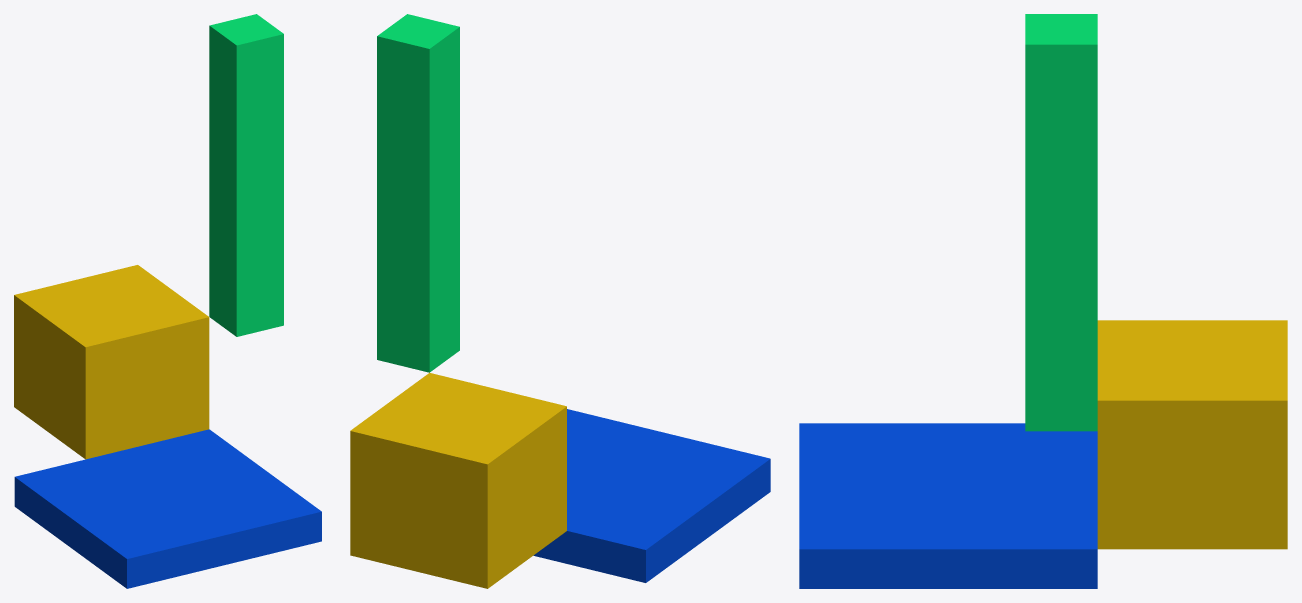
Rendered from AnimationTest_3.fbx.
3 renders of one model, left to right at view 1: azimuth 30°, elevation 25°; view 2: azimuth 150°, elevation 25°; view 3: azimuth 270°, elevation 25°, orthographic. The views are drawn at different scales.
Visible parts, largest first — view 1: Cube_1.001, Cube_2.001, Cube_3.001; view 2: Cube_2.001, Cube_3.001, Cube_1.001; view 3: Cube_1.001, Cube_2.001, Cube_3.001.
Part boxes in pixels (x1,y1,x2,y2): Cube_1.001: (14,429,321,588); Cube_2.001: (14,265,209,459); Cube_3.001: (209,14,283,336); Cube_2.001: (350,372,566,588); Cube_3.001: (377,14,459,372); Cube_1.001: (533,409,770,582); Cube_1.001: (799,423,1097,588); Cube_2.001: (1097,320,1287,549); Cube_3.001: (1025,14,1097,431).
Size of what is drawn, in the model's own units: 1478 by 2528 by 1945.
